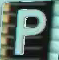Parking: (5, 2, 57, 59)
